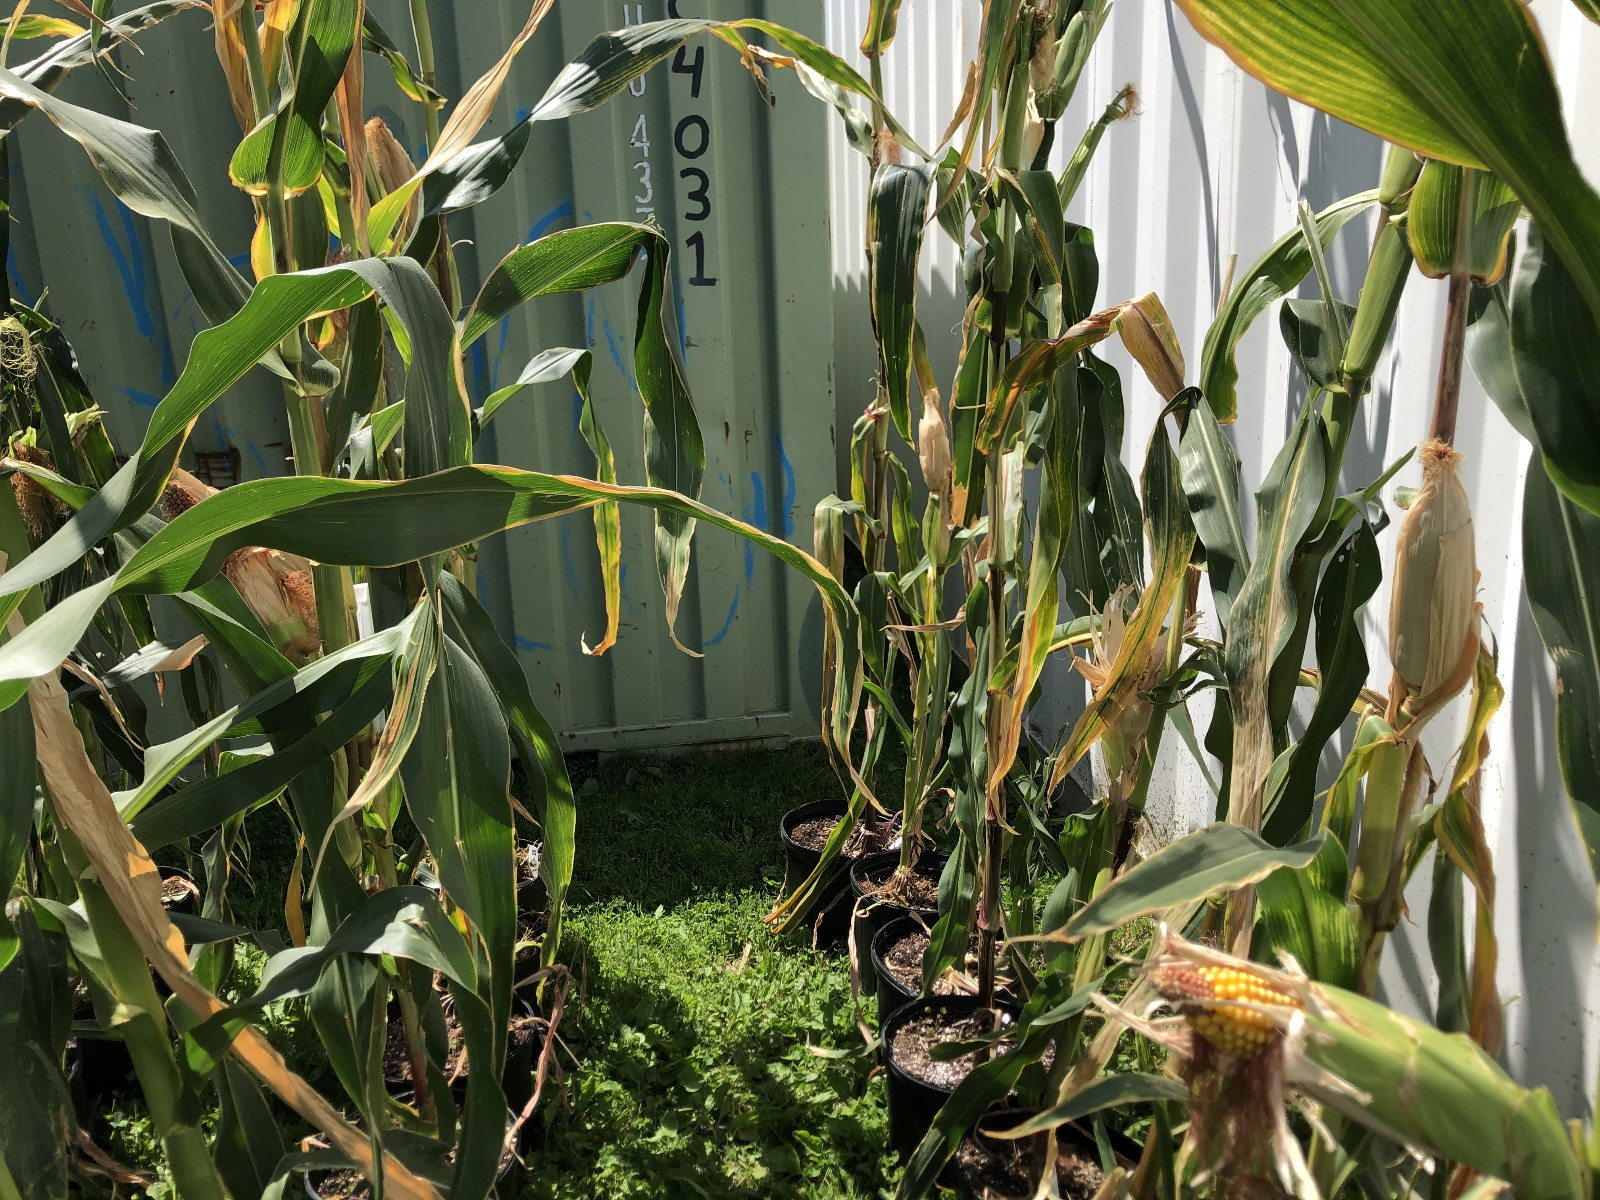ear: (1138, 942, 1552, 1156), (1385, 429, 1477, 689), (169, 492, 294, 633), (364, 107, 426, 219), (917, 386, 950, 492)
